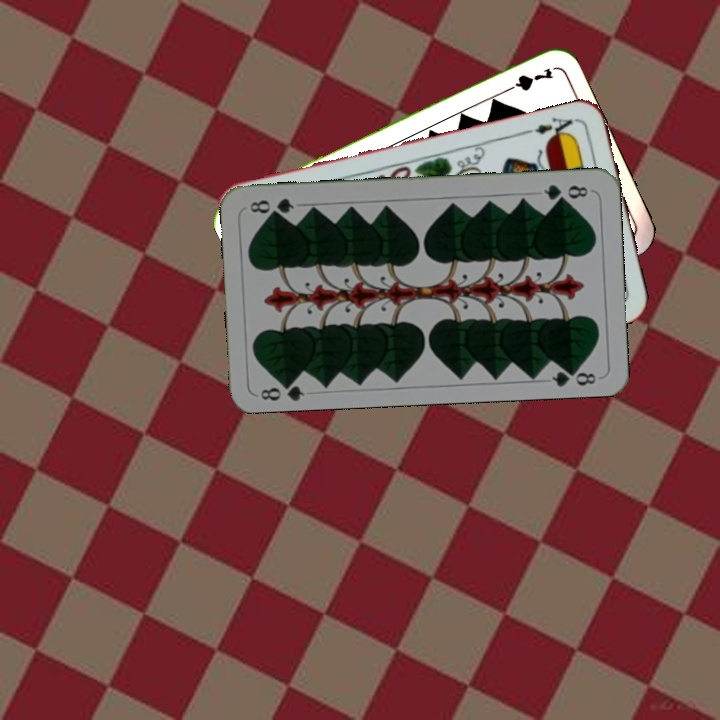EA: (531, 113, 579, 143)
G7: (498, 64, 556, 97)
G8: (257, 375, 307, 403), (539, 180, 591, 204)
